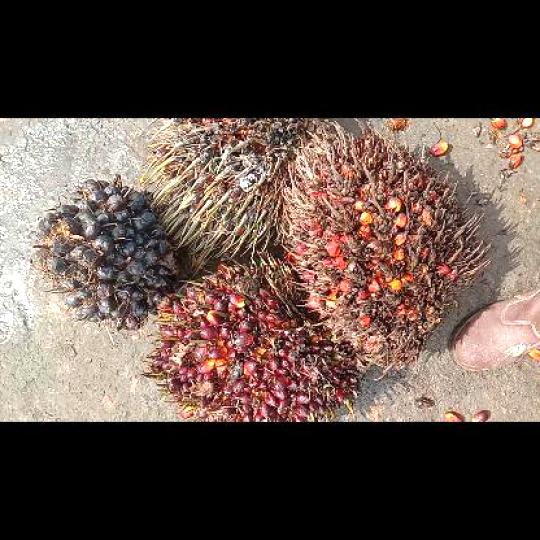masak: (144, 259, 358, 419)
terlalu masak: (281, 118, 490, 373)
